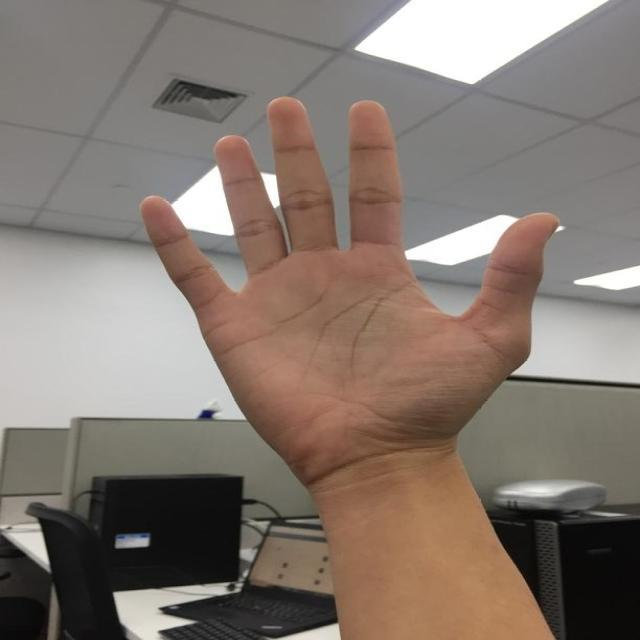no-gloves: (143, 96, 562, 473)
